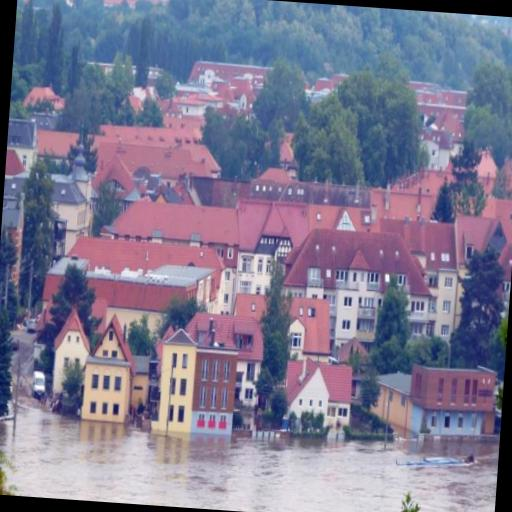flood: (0, 399, 500, 512)
house: (151, 321, 246, 437), (382, 358, 496, 439), (100, 193, 240, 253), (419, 217, 474, 332), (78, 312, 134, 422), (323, 252, 384, 324), (50, 305, 90, 382), (231, 240, 280, 299)
